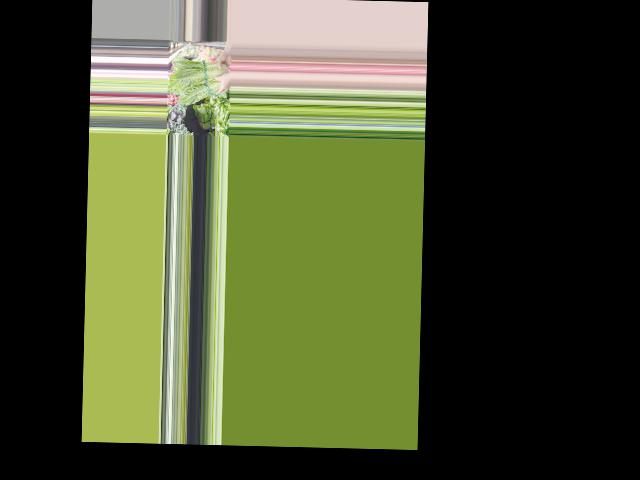lettuce: (171, 58, 232, 106)
